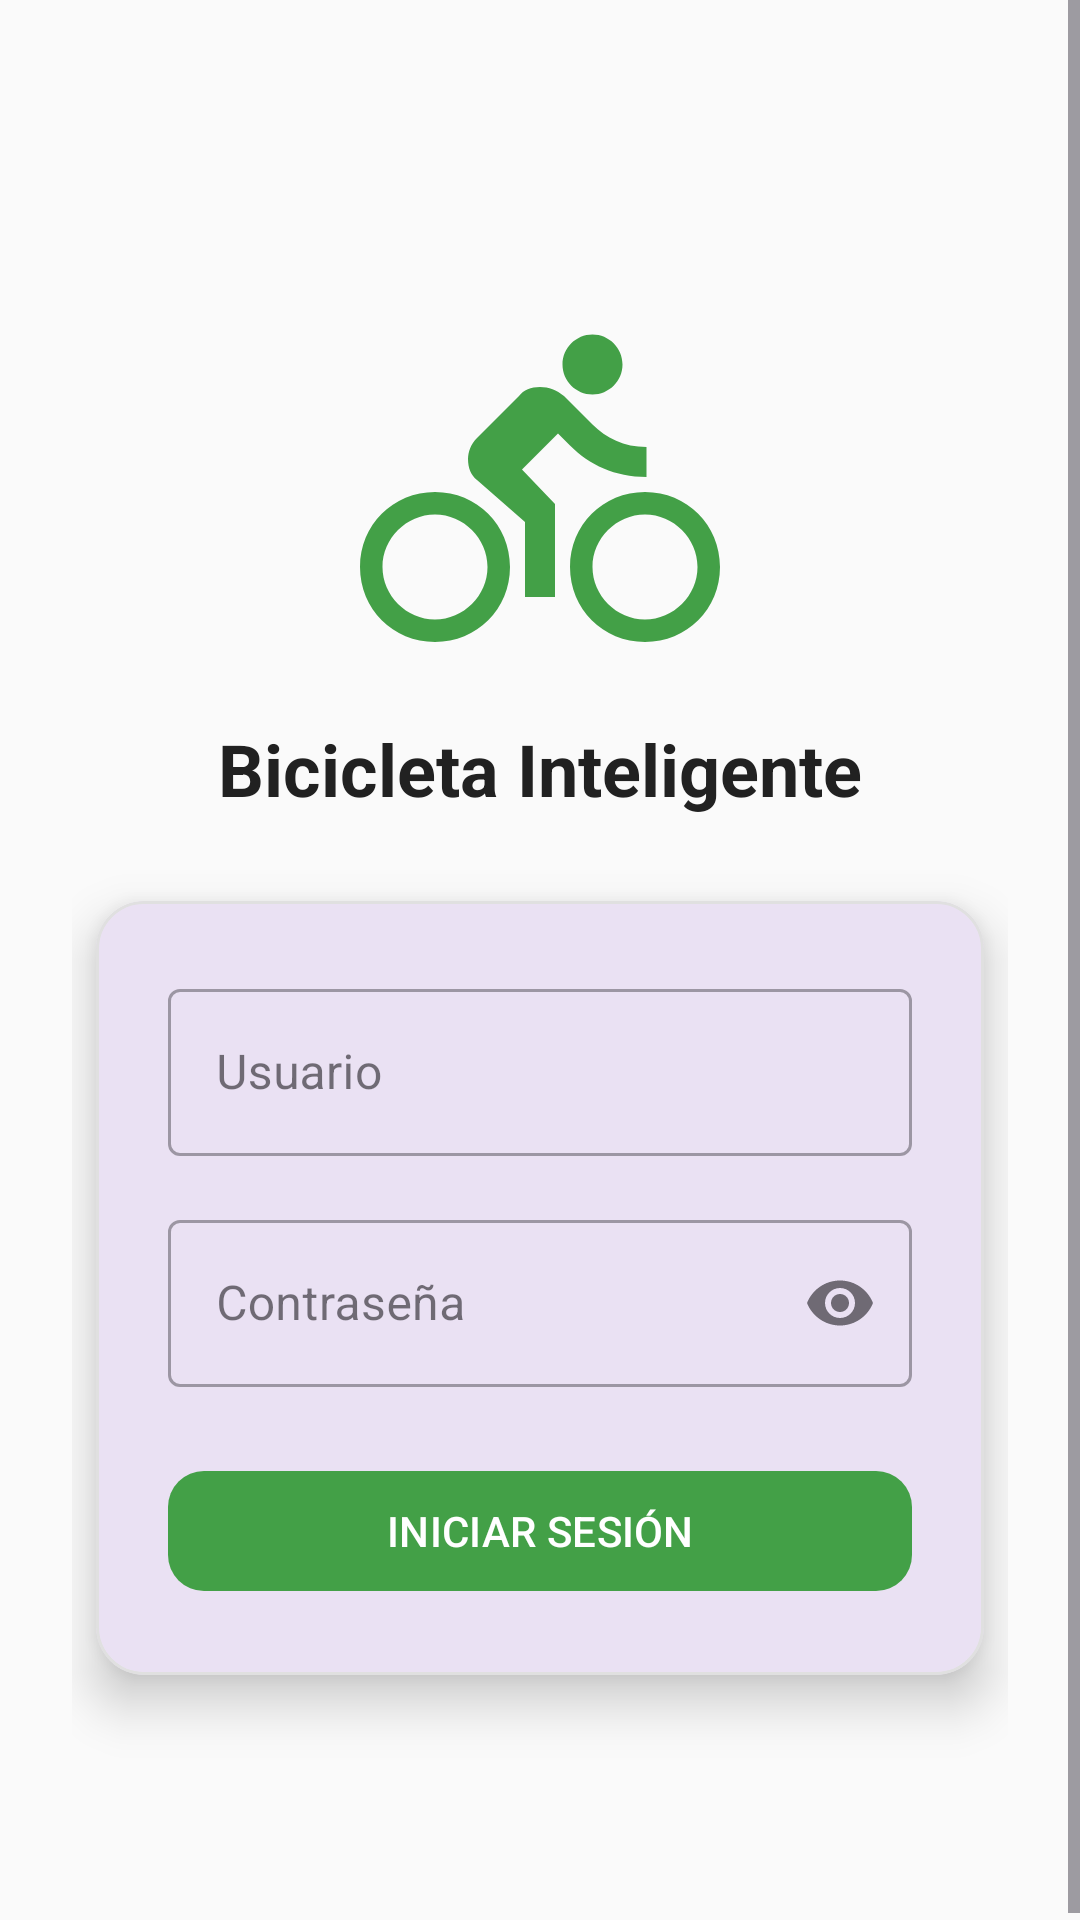

Icon click points for this 1080w x 1920h phone screenshot, format (x=x, y=y):
cycling: (x=540, y=488)
